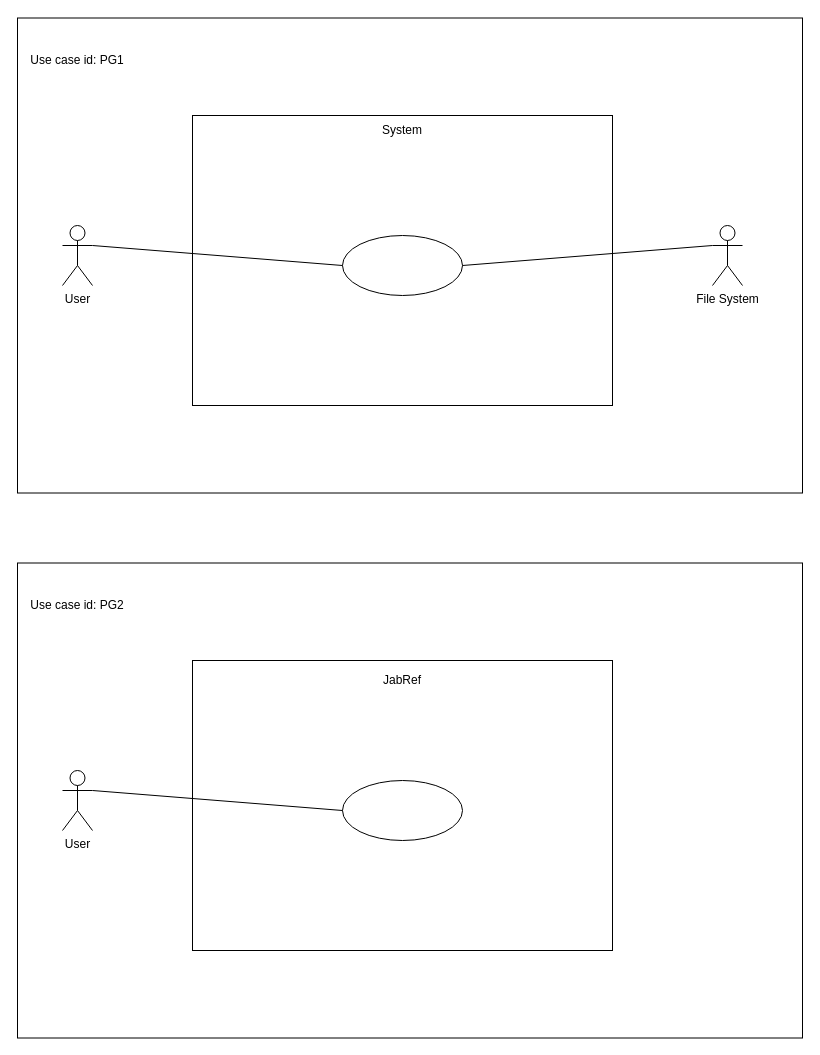
Some shapes in this 820 by 1055 pixel diagram are drawn without their labels. Here are the shapes that lost their labels. From the top down, the centre of each, then its label:
At point (402, 265): "Create new entry".
At point (402, 810): "Check integrity".
